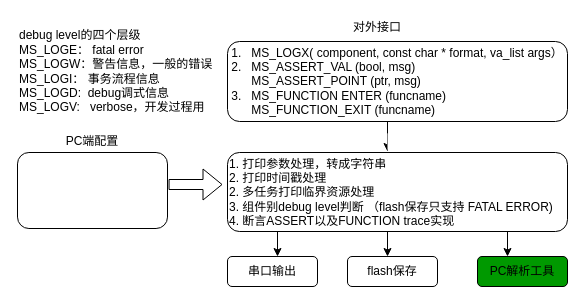
Image size: 585x304. Some labels were removed from this diagram. Each missing label, with the box of its shape:
log 管理: (387, 131, 507, 151)
编译时配置内容： 1. 组件别debug level 2. debug 输出路径 3. log时间戳开关: (16, 152, 168, 228)
